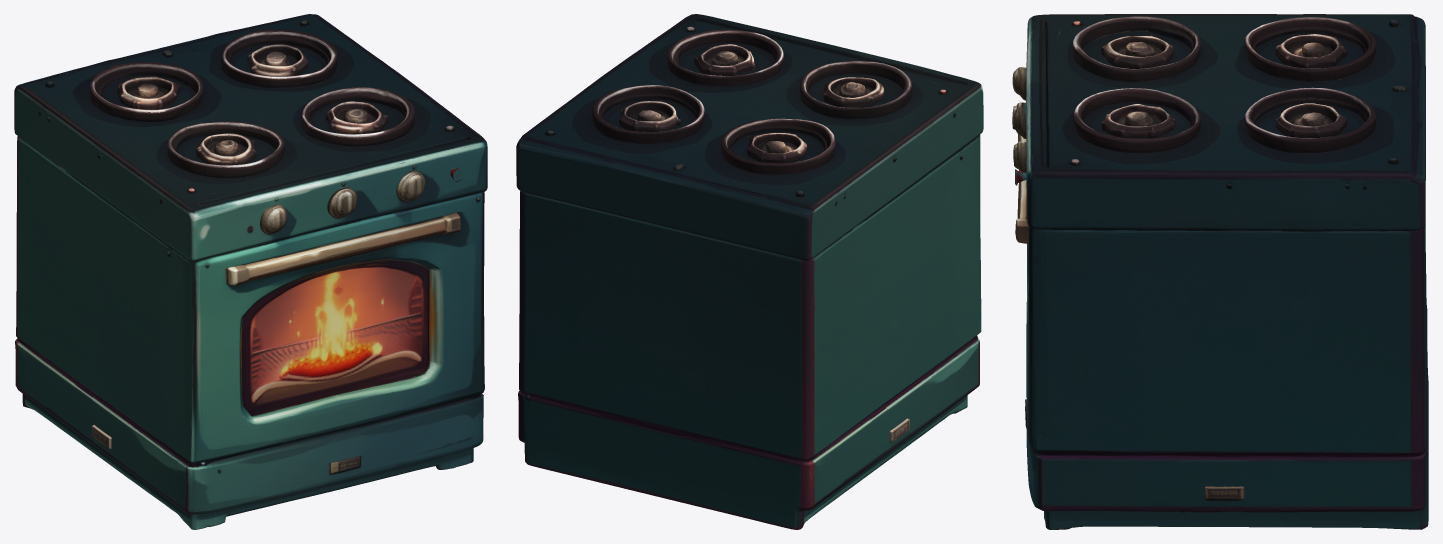
File: cartoon oven 2.glb
3 renders of one model, left to right at view 1: azimuth 30°, elevation 25°; view 2: azimuth 150°, elevation 25°; view 3: azimuth 270°, elevation 25°, orthographic. The views are drawn at different scales.
Visible parts, largest first — view 1: world; view 2: world; view 3: world.
Part boxes in pixels (box(x1,y1,x2,y2)): world: box(14, 14, 487, 529); world: box(516, 14, 983, 529); world: box(1012, 14, 1428, 529).
Size of the model in its own units: 0.9379 by 0.999 by 1.
Materials: 1 (1 with a texture image).
